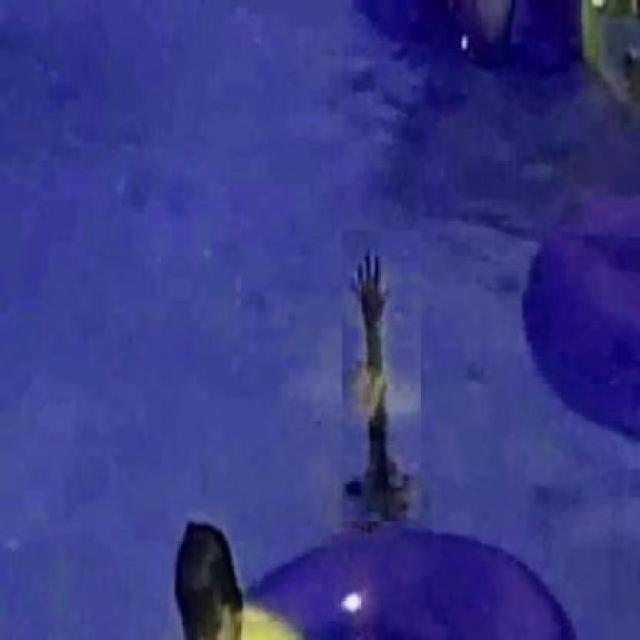drowning: (339, 224, 416, 522)
